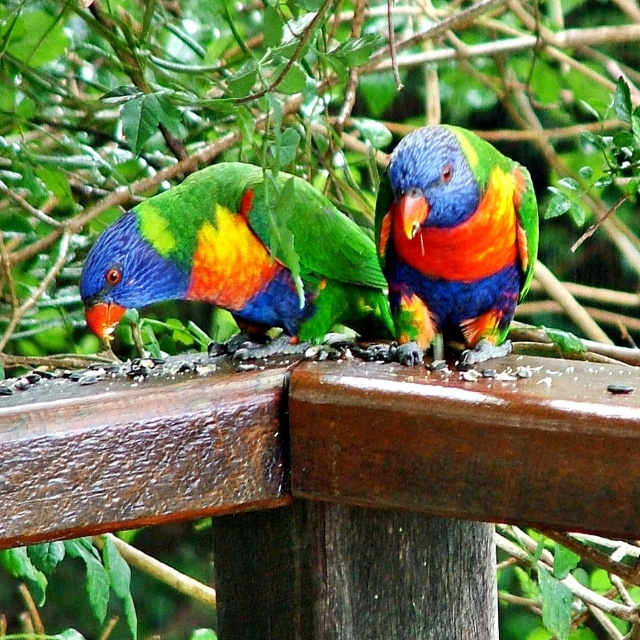Parrot: (79, 162, 396, 361), (375, 124, 539, 367)
